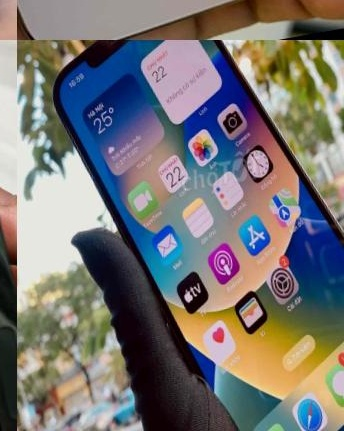scratch: (0, 222, 17, 431)
